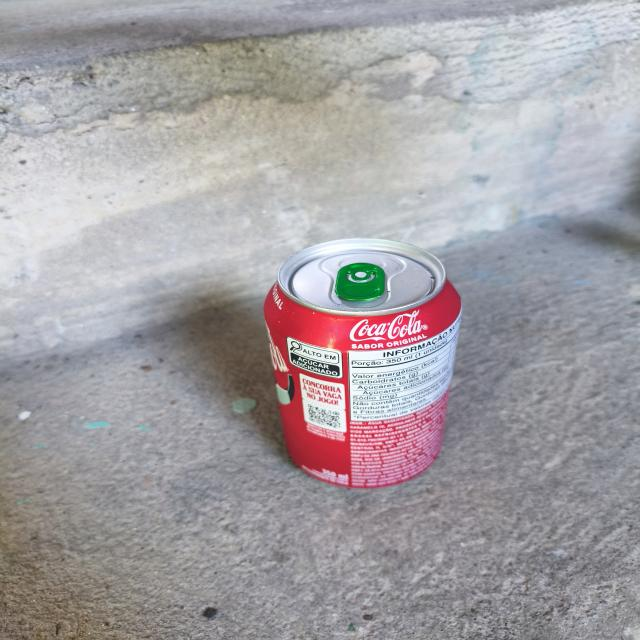Coca Cola: (264, 240, 461, 488)
